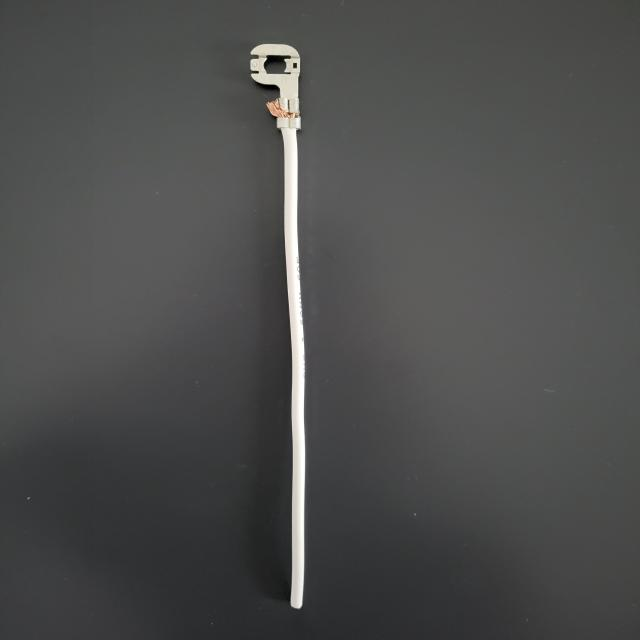defect: (241, 88, 339, 145)
